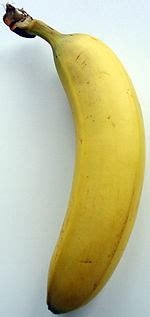banana: (44, 19, 148, 317)
